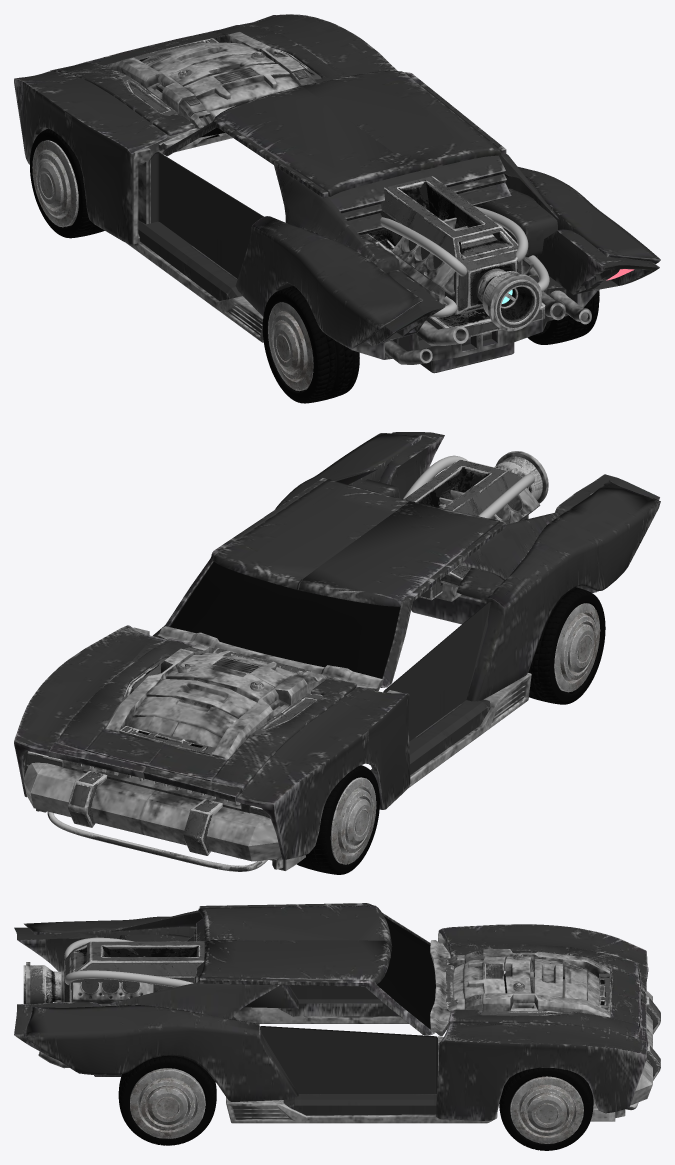
The model's file is batmobile.glb.
The picture shows the model from 3 angles, top to bottom: view 1: azimuth 30°, elevation 25°; view 2: azimuth 150°, elevation 25°; view 3: azimuth 270°, elevation 25°; orthographic projection. The views are drawn at different scales.
Parts seen in each view (by area): view 1: Cube.040_CarroceriaNegra_0, Cube.010_Gris2_0, Cylinder.006_Gris1_0, Plane_Plane.002_Llantas_0, Cylinder.009_Material_0, NurbsPath.004_Tubos_0; view 2: Cube.040_CarroceriaNegra_0, Cube.010_Gris2_0, Plane.007_Vidrio_0, Cylinder.006_Gris1_0, Plane_Plane.002_Llantas_0, Cylinder.009_Material_0, NurbsPath.004_Tubos_0; view 3: Cube.040_CarroceriaNegra_0, Cube.010_Gris2_0, Cylinder.006_Gris1_0, Cylinder.009_Material_0, Plane_Plane.002_Llantas_0, Plane.007_Vidrio_0, NurbsPath.004_Tubos_0.
Boxes of the visible parts, bbox=[...] form: Cube.040_CarroceriaNegra_0: bbox=[14, 14, 660, 373]; Cube.010_Gris2_0: bbox=[41, 32, 591, 364]; Cylinder.006_Gris1_0: bbox=[121, 38, 545, 337]; Plane_Plane.002_Llantas_0: bbox=[30, 128, 599, 403]; Cylinder.009_Material_0: bbox=[32, 140, 599, 391]; NurbsPath.004_Tubos_0: bbox=[380, 206, 549, 317]; Cube.040_CarroceriaNegra_0: bbox=[14, 432, 660, 859]; Cube.010_Gris2_0: bbox=[23, 451, 548, 870]; Plane.007_Vidrio_0: bbox=[170, 562, 400, 678]; Cylinder.006_Gris1_0: bbox=[26, 456, 542, 871]; Plane_Plane.002_Llantas_0: bbox=[296, 587, 605, 874]; Cylinder.009_Material_0: bbox=[330, 603, 600, 864]; NurbsPath.004_Tubos_0: bbox=[403, 455, 534, 518]; Cube.040_CarroceriaNegra_0: bbox=[14, 903, 648, 1120]; Cube.010_Gris2_0: bbox=[26, 933, 652, 1123]; Cylinder.006_Gris1_0: bbox=[23, 941, 660, 1110]; Cylinder.009_Material_0: bbox=[130, 977, 583, 1143]; Plane_Plane.002_Llantas_0: bbox=[118, 973, 593, 1150]; Plane.007_Vidrio_0: bbox=[377, 916, 435, 1029]; NurbsPath.004_Tubos_0: bbox=[64, 937, 193, 987].
Size of the model in its own units: 2.37 by 1.32 by 5.07.
Materials: 10 (4 with a texture image).
